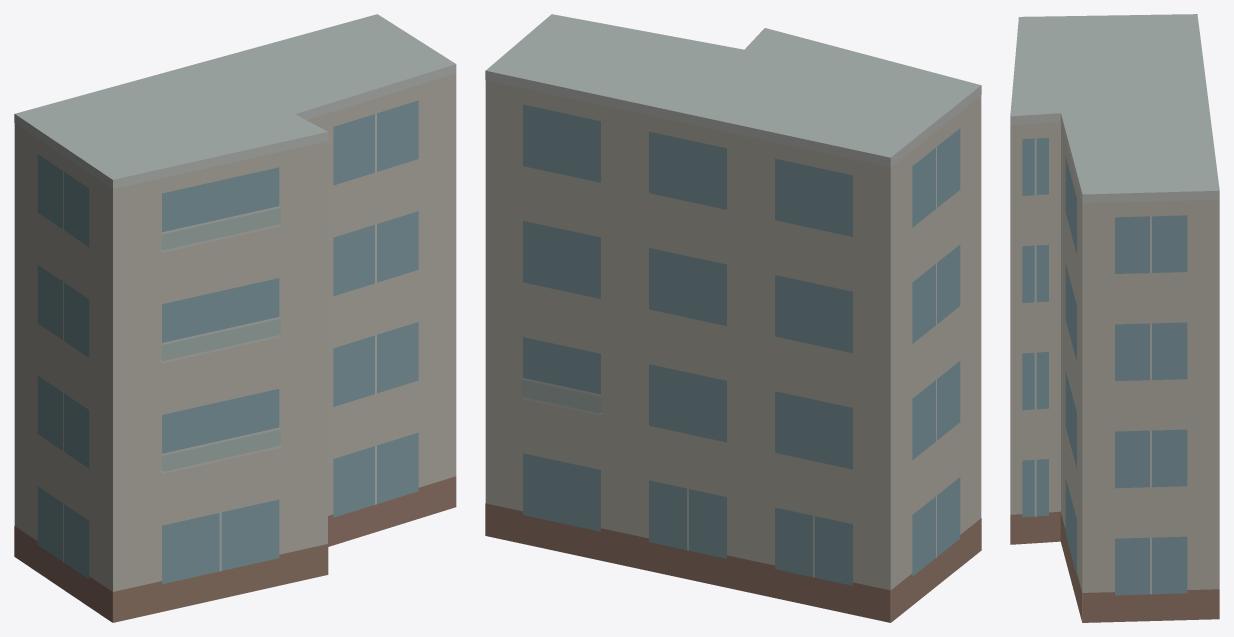
Rendered from survey-upis-32511479.glb.
3 renders of one model, left to right at view 1: azimuth 30°, elevation 25°; view 2: azimuth 150°, elevation 25°; view 3: azimuth 270°, elevation 25°, orthographic. The views are drawn at different scales.
Visible parts, largest first — view 1: survey-upis-32511479.tmp; view 2: survey-upis-32511479.tmp; view 3: survey-upis-32511479.tmp.
Part boxes in pixels (x1=…): survey-upis-32511479.tmp: x1=14, y1=14, x2=456, y2=622; survey-upis-32511479.tmp: x1=485, y1=14, x2=981, y2=622; survey-upis-32511479.tmp: x1=1010, y1=14, x2=1219, y2=622.
Bounding box in the file's own units: 10.58 × 11.7 × 5.2.
